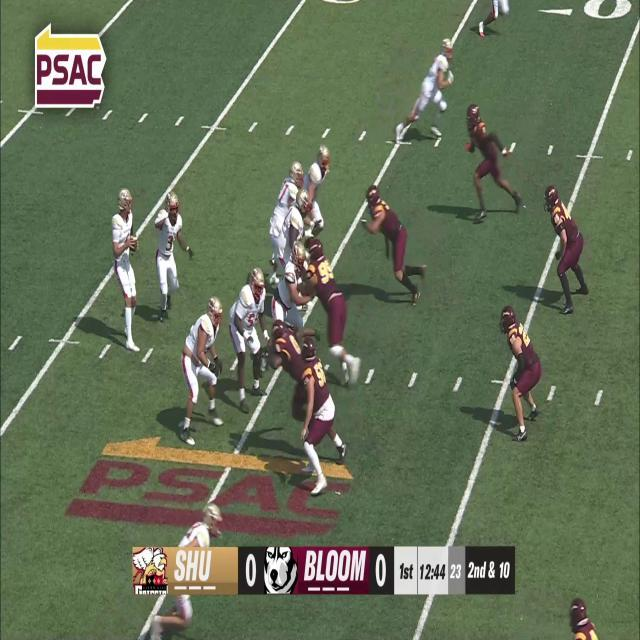football: (128, 234, 138, 257)
